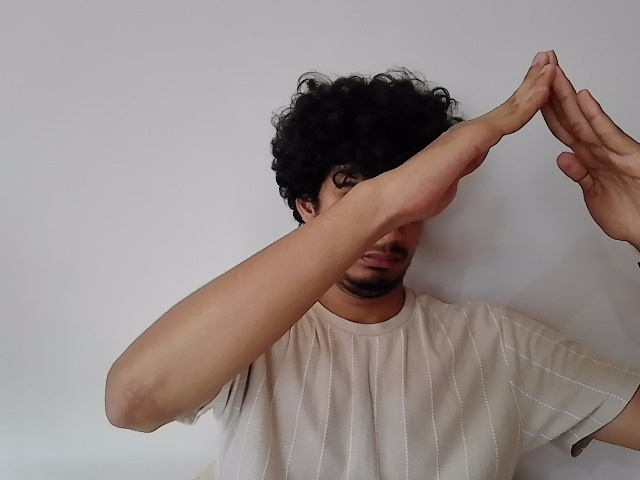home: (368, 50, 640, 252)
